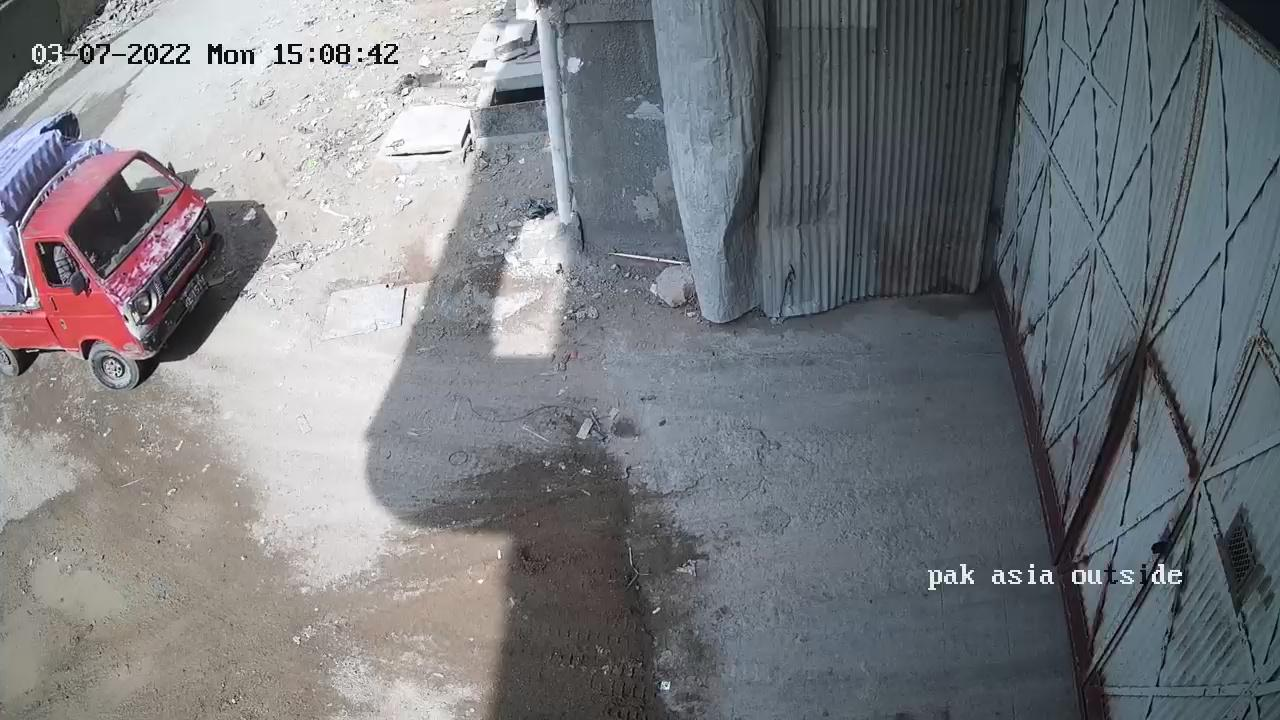Ltv: (0, 106, 219, 400)
